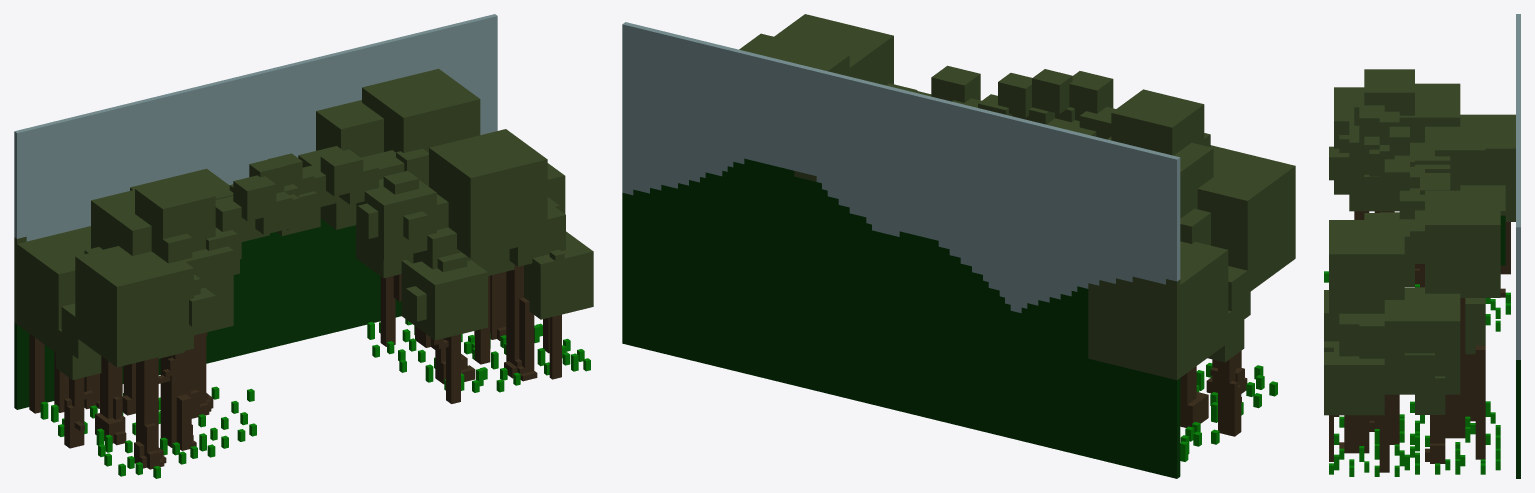
The model's file is ForestPrefab.obj.
3 views of the same model, side by side, from view 1: azimuth 30°, elevation 25°; view 2: azimuth 150°, elevation 25°; view 3: azimuth 270°, elevation 25° (orthographic). The views are drawn at different scales.
Bounding box in the file's own units: 10 × 5.5 × 3.9.
Materials: 1 (1 with a texture image).
